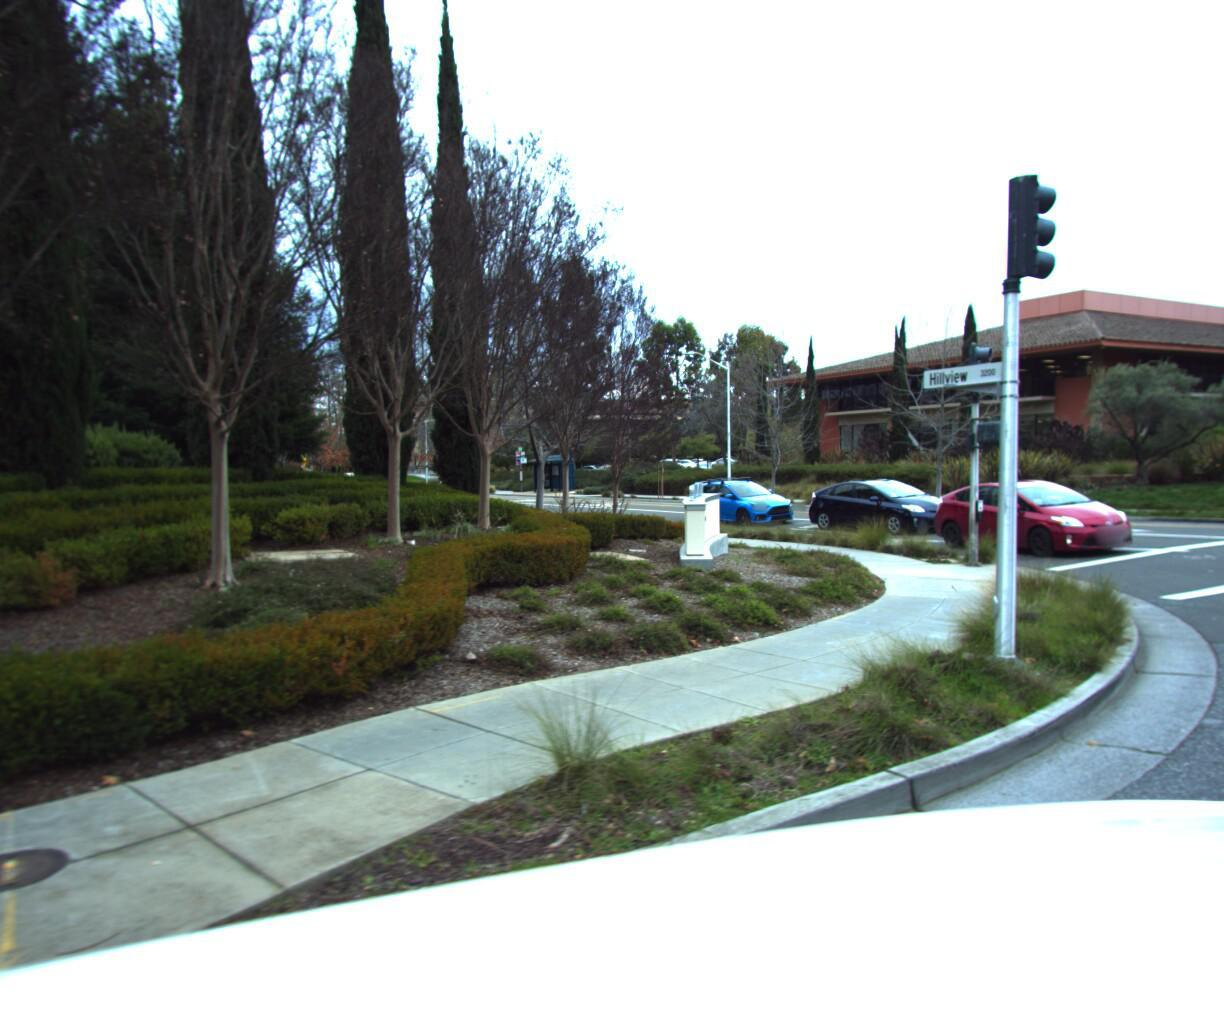car: (925, 475, 1151, 559), (803, 470, 971, 534), (685, 472, 803, 526)
